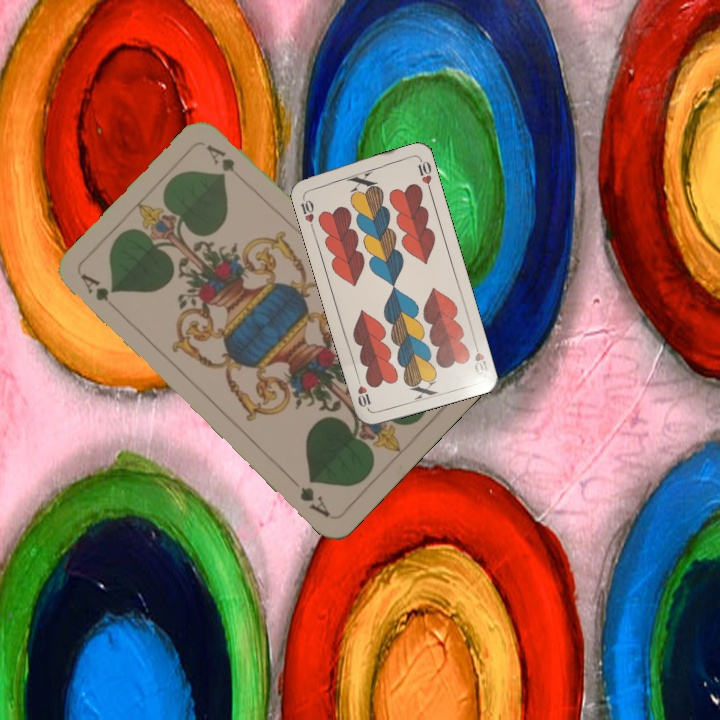GA: (76, 269, 123, 316)
H10: (469, 337, 491, 378), (296, 191, 317, 231)
